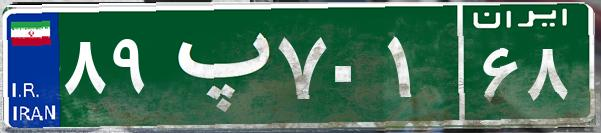0: (330, 28, 385, 110)
1: (385, 28, 445, 110)
6: (475, 38, 525, 113)
7: (273, 28, 330, 110)
8: (57, 26, 110, 107), (525, 38, 570, 115)
9: (110, 28, 158, 105)
پ: (158, 15, 273, 115)
